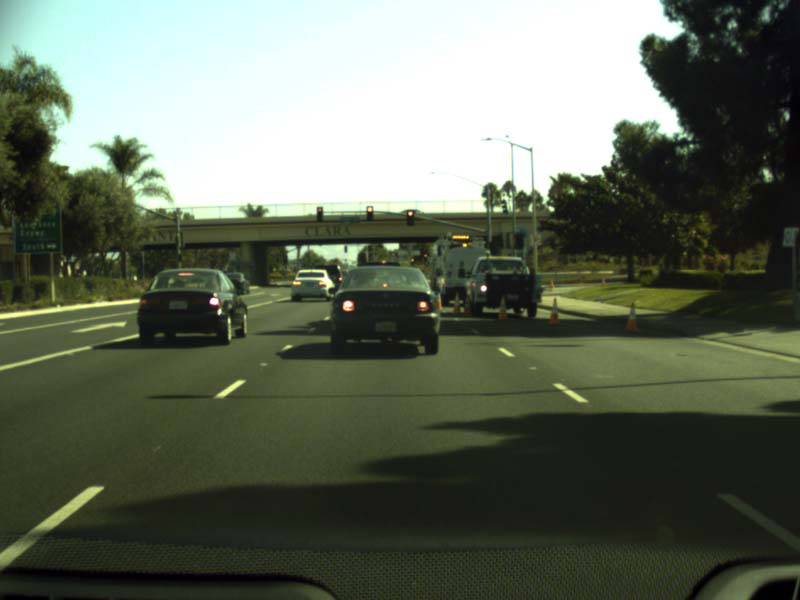Red: (406, 209, 414, 227), (315, 205, 323, 222), (366, 205, 373, 221)
